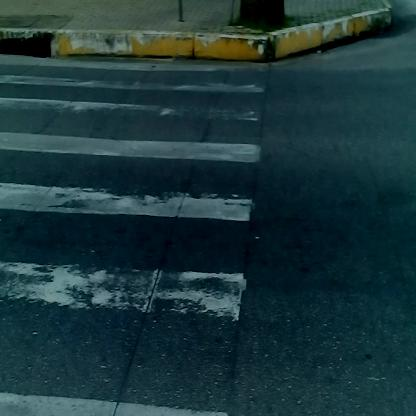crosswalk: (2, 58, 278, 411)
sidewalk: (2, 1, 399, 61)
